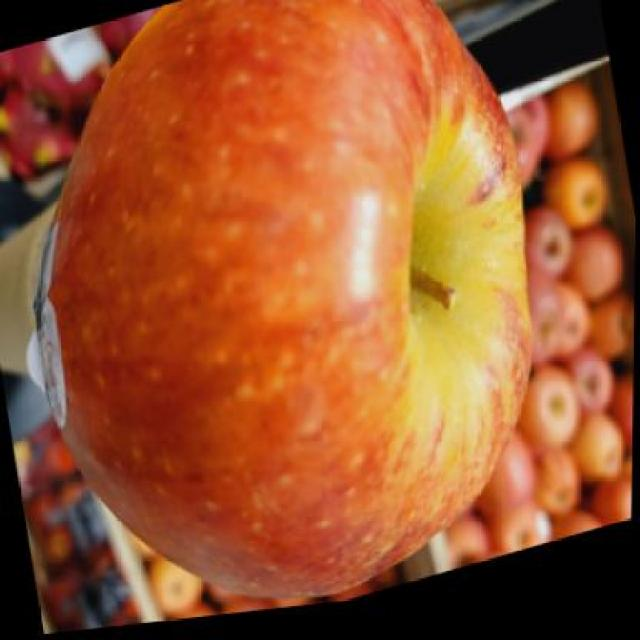Fresh Apple: (49, 5, 534, 600)
